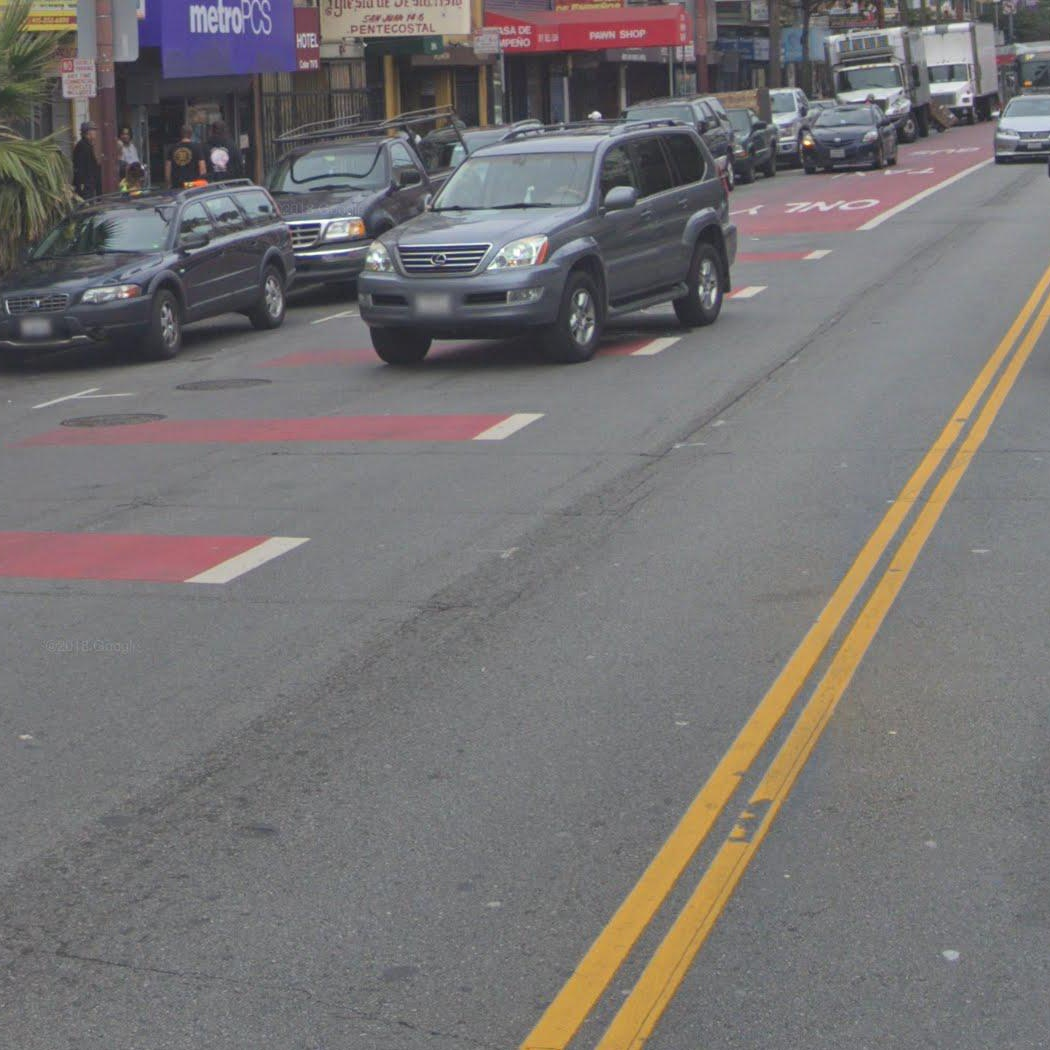No Parking: (59, 57, 97, 98), (472, 26, 500, 55)
